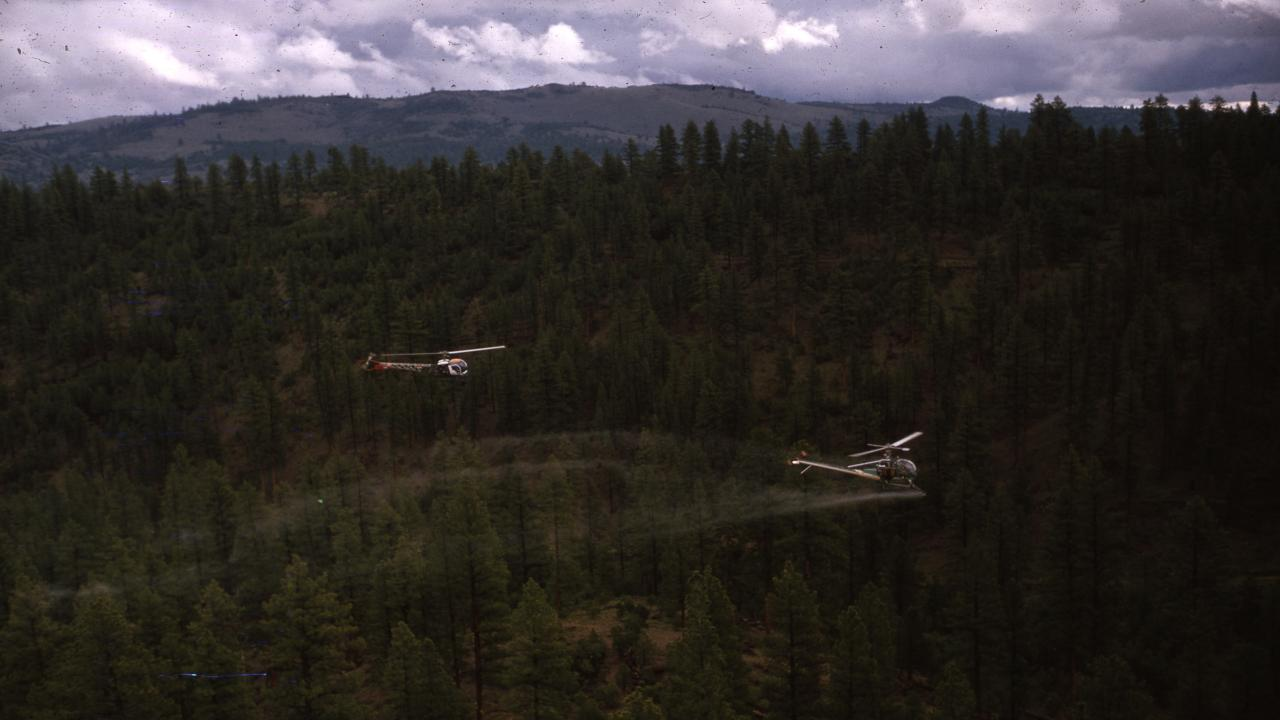Helicopter: (782, 412, 942, 502), (340, 336, 524, 389)
